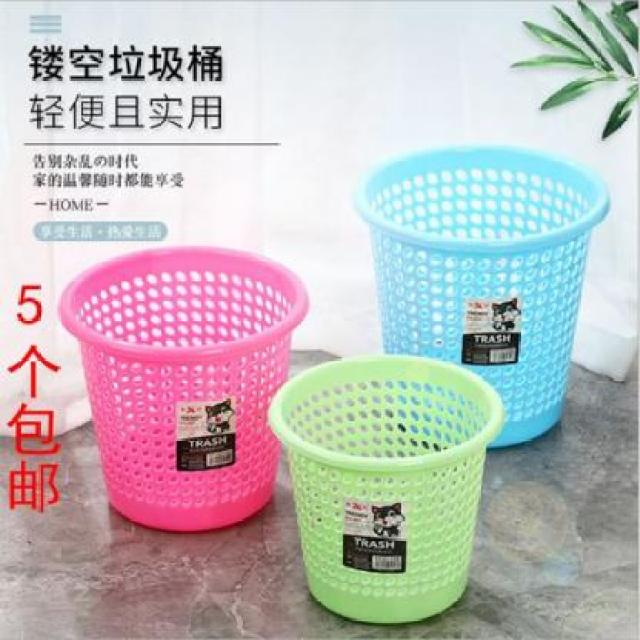dustbin: (350, 138, 612, 454), (55, 242, 311, 538), (264, 351, 508, 628)
